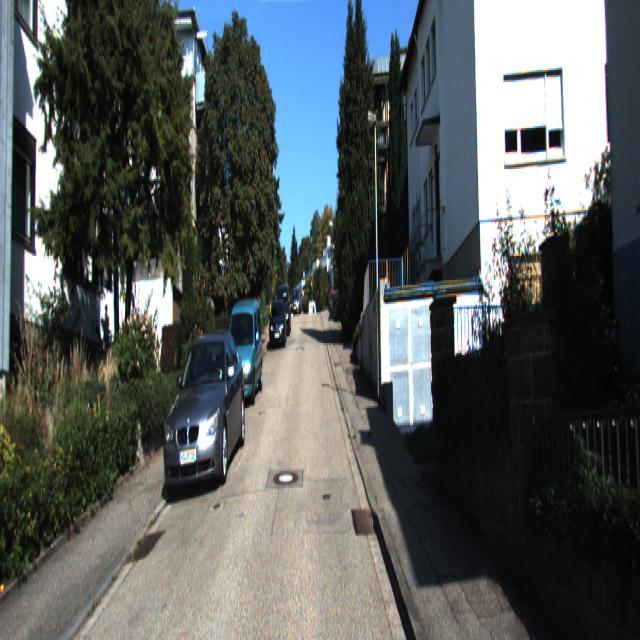Car: (158, 327, 248, 497), (220, 297, 264, 408), (274, 282, 291, 336), (269, 297, 287, 345)
